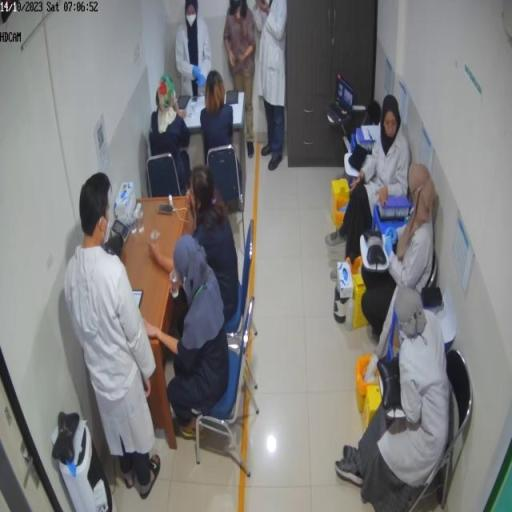person: (65, 174, 161, 495), (336, 287, 451, 509), (146, 235, 231, 445), (325, 96, 411, 265), (360, 171, 439, 347), (182, 165, 241, 327), (224, 1, 257, 159), (150, 76, 193, 196), (258, 2, 288, 172), (176, 1, 214, 100), (201, 71, 235, 166)
